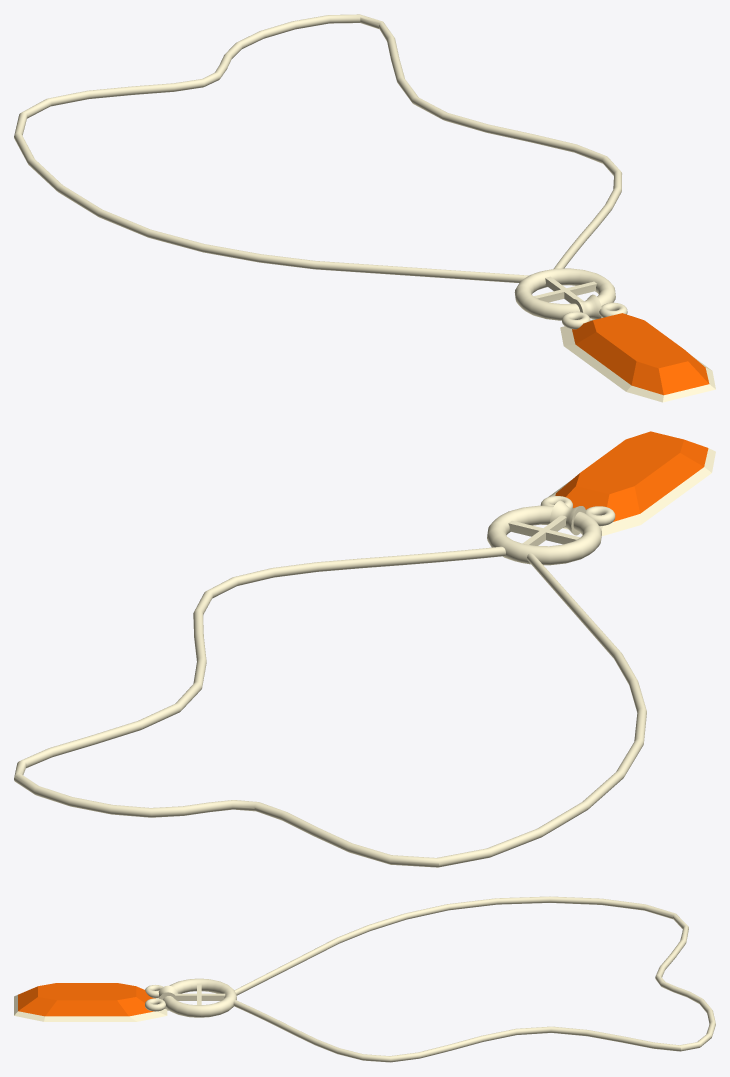
File: Pendent.fbx
3 renders of one model, top to bottom at view 1: azimuth 30°, elevation 25°; view 2: azimuth 150°, elevation 25°; view 3: azimuth 270°, elevation 25°, orthographic. The views are drawn at different scales.
Parts seen in each view (by area): view 1: Pendent; view 2: Pendent; view 3: Pendent.
Boxes of the visible parts, bbox=[...] form: Pendent: bbox=[14, 14, 715, 402]; Pendent: bbox=[14, 431, 715, 867]; Pendent: bbox=[14, 896, 715, 1062].
Size of the model in its own units: 240 by 12.49 by 438.
